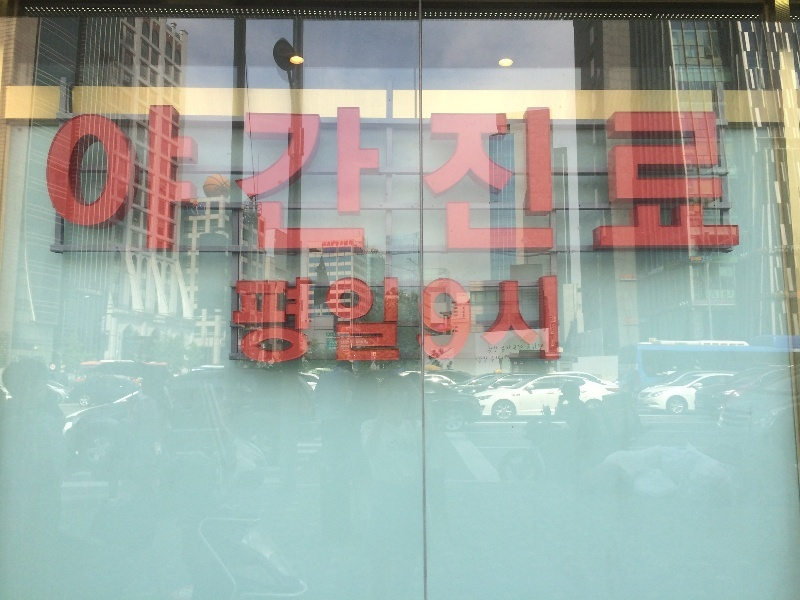text: (65, 105, 80, 254), (81, 105, 96, 254), (97, 105, 112, 254), (113, 105, 128, 254), (129, 105, 144, 254), (145, 105, 160, 254), (161, 105, 176, 254), (177, 105, 192, 254), (193, 105, 208, 254), (209, 105, 224, 254), (225, 105, 240, 254), (241, 105, 256, 254), (257, 105, 272, 254), (273, 105, 288, 254), (289, 105, 304, 254), (305, 105, 320, 254), (321, 105, 336, 254), (337, 105, 352, 254), (353, 105, 368, 254), (369, 105, 384, 254), (385, 105, 400, 254), (401, 105, 416, 254), (417, 105, 432, 254), (433, 105, 448, 254), (449, 105, 464, 254), (465, 105, 480, 254), (481, 105, 496, 254), (497, 105, 512, 254), (513, 105, 528, 254), (529, 105, 544, 254), (545, 105, 560, 254), (561, 105, 576, 254), (577, 105, 592, 254), (593, 105, 608, 254), (609, 105, 624, 254), (625, 105, 640, 254), (641, 105, 656, 254), (657, 105, 672, 254), (673, 105, 688, 254), (689, 105, 704, 254), (705, 105, 720, 254), (721, 105, 736, 254), (241, 274, 256, 364), (257, 274, 272, 364), (273, 274, 288, 364), (289, 274, 304, 364), (305, 274, 320, 364), (321, 274, 336, 364), (337, 274, 352, 364), (353, 274, 368, 364), (369, 274, 384, 364), (385, 274, 400, 364), (401, 274, 416, 364), (417, 274, 432, 364), (433, 274, 448, 364), (449, 274, 464, 364), (465, 274, 480, 364), (481, 274, 496, 364), (497, 274, 512, 364), (513, 274, 528, 364), (529, 274, 544, 364), (545, 274, 560, 364), (57, 105, 64, 254), (737, 105, 741, 254), (234, 274, 240, 364), (497, 343, 512, 355), (513, 343, 528, 355), (529, 343, 544, 355), (481, 354, 496, 364), (497, 354, 510, 364), (487, 343, 496, 355), (475, 354, 480, 364)
